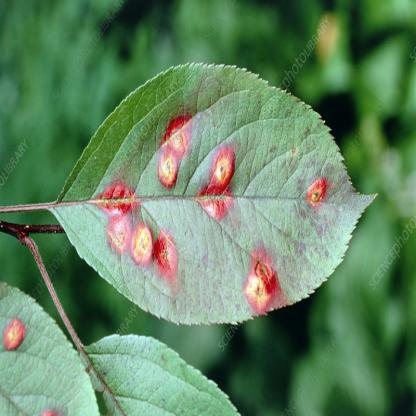apple rust leaf: (46, 61, 378, 329)
